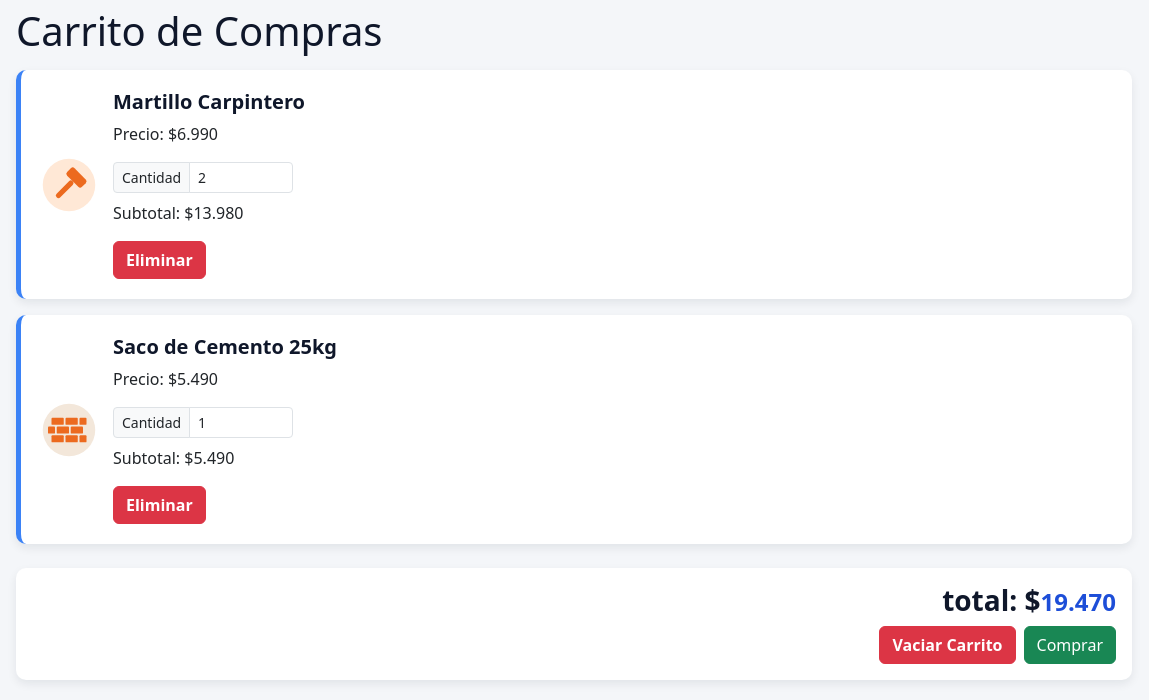
Carrito › eliminar un producto lo quita de la lista y recalcula el total
This screenshot has width=1149, height=700.
Click the button "Eliminar" below "13.980".
click(159, 260)  # box x1=113 y1=241 x2=206 y2=279
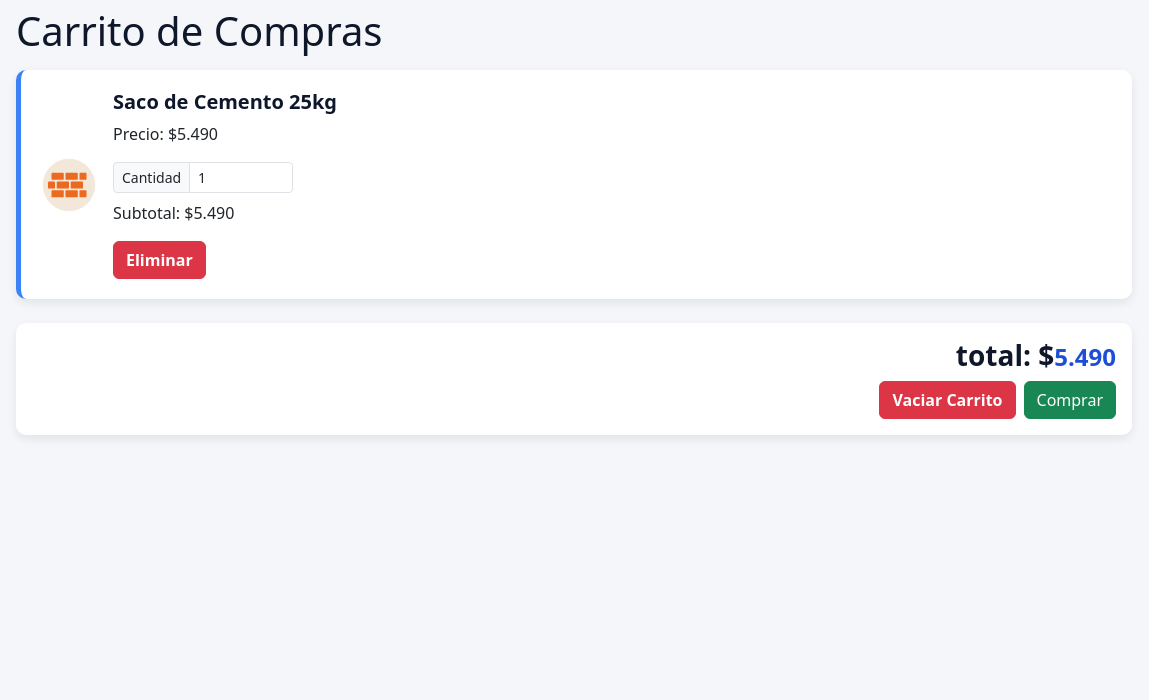
Expected: the heading "Martillo Carpintero" is gone
